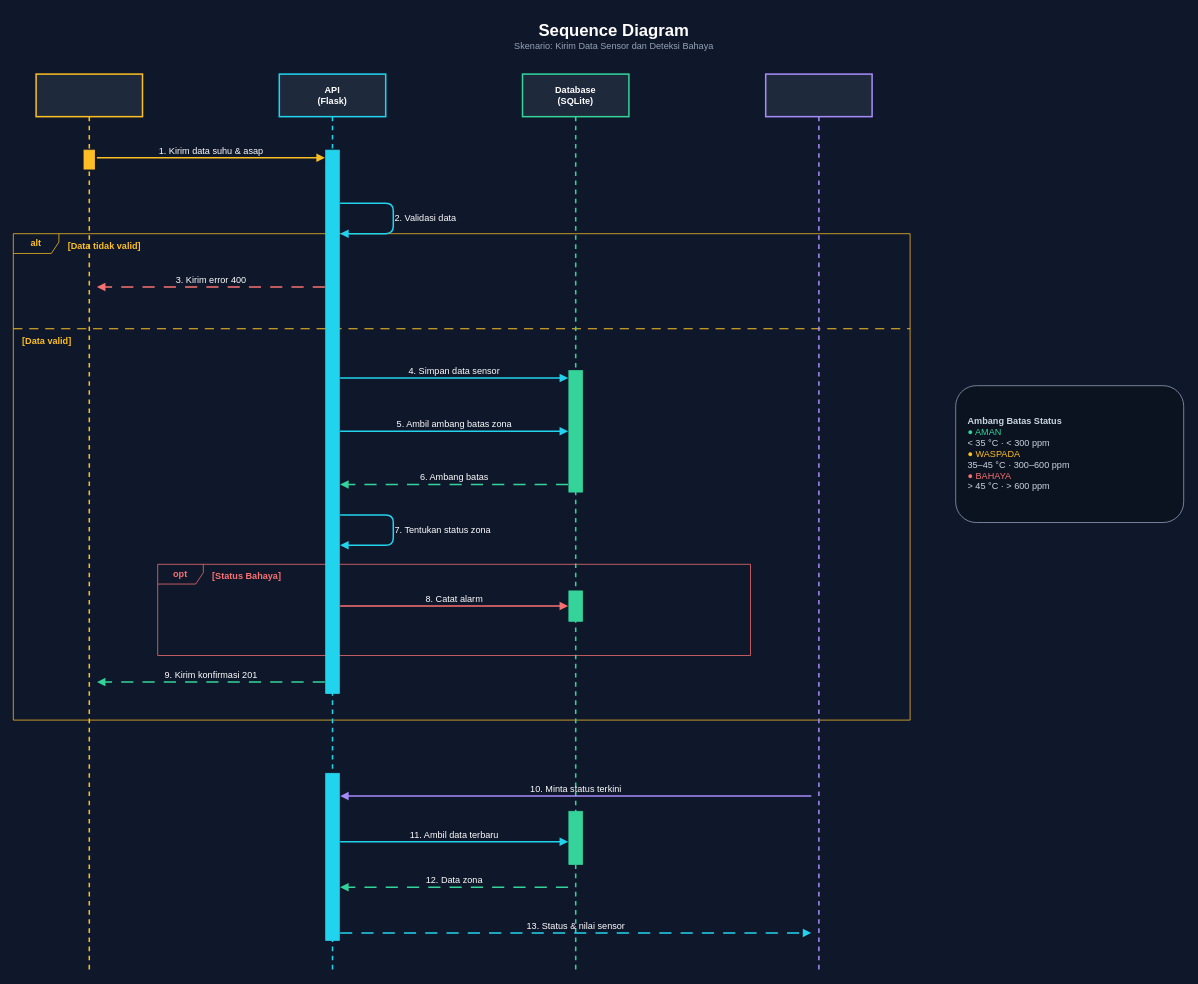
This 1198x984 diagram has some shape labels left out. The box of each missing label's shape, as (x1, y1, x2, y2) in pixels:
Dashboard Web: (765, 73, 872, 971)
Sensor Suhu & Asap: (35, 73, 143, 971)
